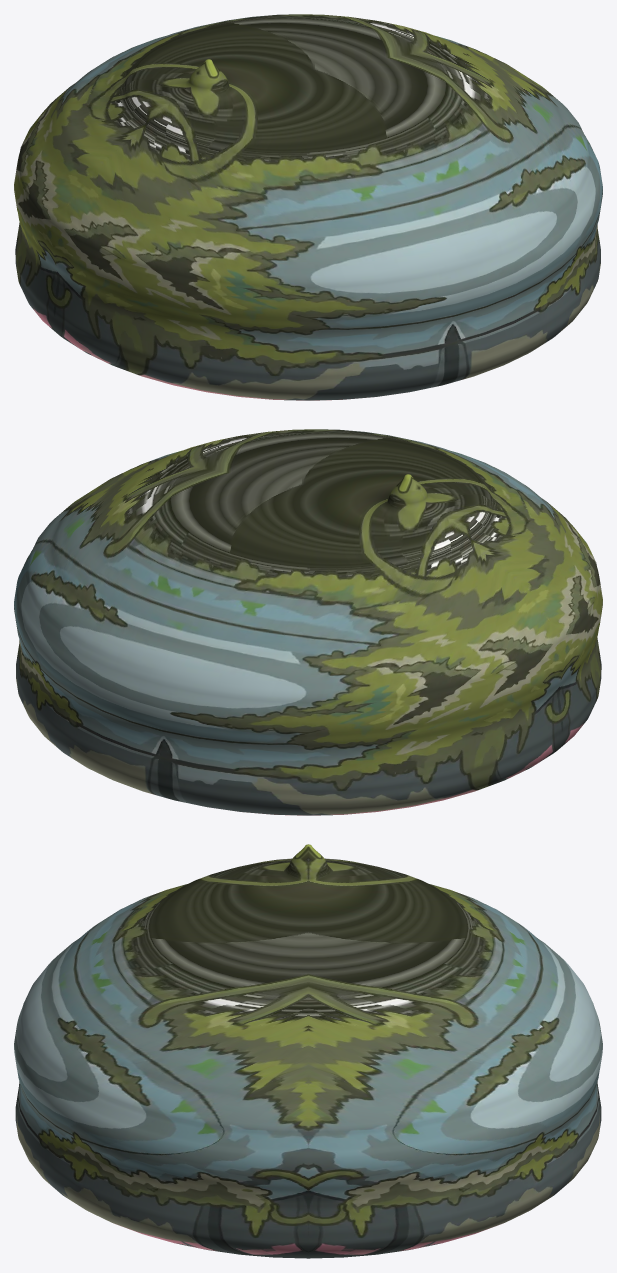
Rendered from overgrown_platform.glb.
3 renders of one model, top to bottom at view 1: azimuth 30°, elevation 25°; view 2: azimuth 150°, elevation 25°; view 3: azimuth 270°, elevation 25°, orthographic.
Visible parts, largest first — view 1: overgrown_platform; view 2: overgrown_platform; view 3: overgrown_platform.
Boxes of the visible parts, x1,y1,x2,y2 form: overgrown_platform: [14, 14, 602, 400]; overgrown_platform: [14, 429, 602, 815]; overgrown_platform: [14, 844, 602, 1258].
Bounding box in the file's own units: 0.9974 × 0.5341 × 0.9974.
1 material, 1 textured.
